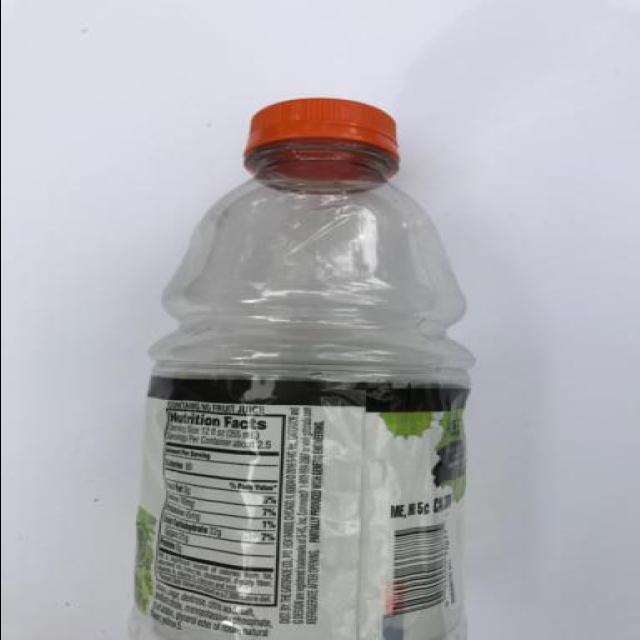PET: (118, 94, 494, 638)
